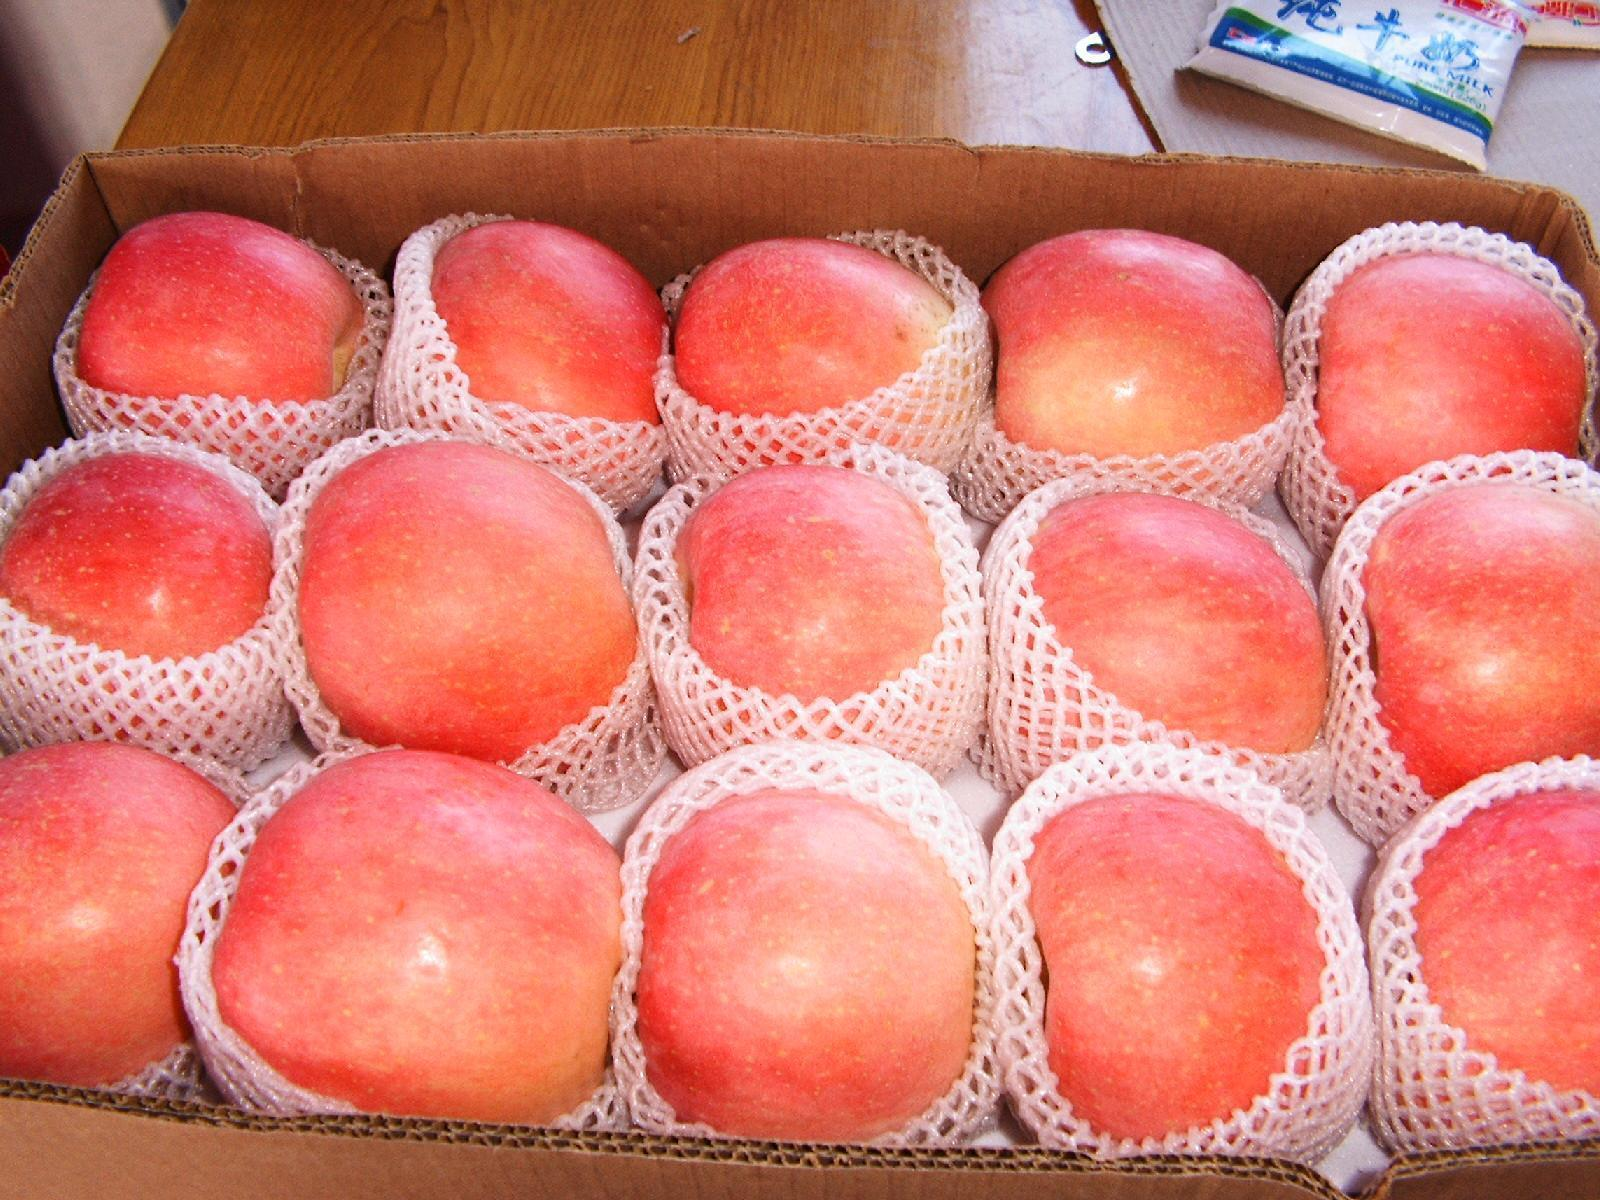apple: (179, 750, 625, 1123), (990, 764, 1367, 1163), (619, 747, 990, 1143), (287, 434, 654, 793), (645, 460, 979, 778), (981, 485, 1327, 790), (1327, 463, 1600, 839), (375, 211, 674, 514), (1290, 236, 1592, 519), (975, 226, 1286, 482), (1, 746, 234, 1082), (1, 430, 282, 678), (677, 222, 957, 434), (76, 203, 359, 411)
